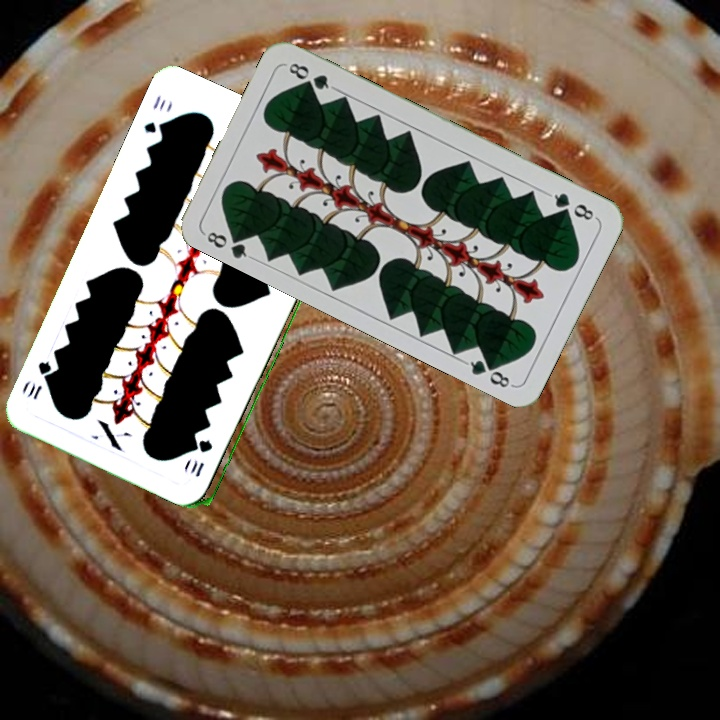G10: (139, 91, 170, 140), (186, 436, 216, 480)
G8: (200, 226, 255, 262), (544, 189, 599, 223)
